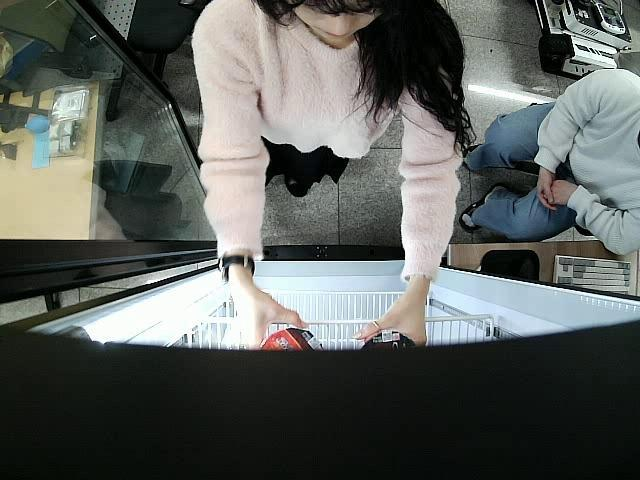02_shinRamen_S: (255, 327, 321, 351), (358, 330, 417, 352)
